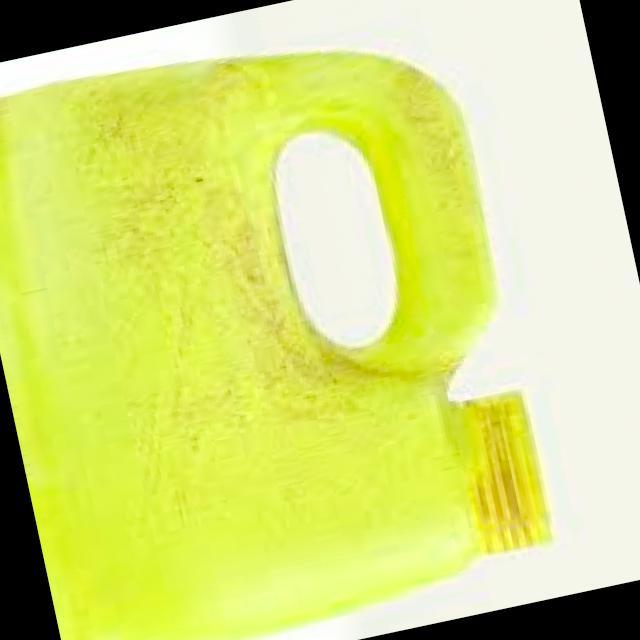HDPE Plastic: (2, 60, 555, 638)
